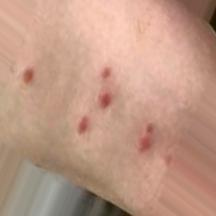Fleas: (138, 124, 152, 152), (75, 116, 92, 133), (96, 91, 111, 109), (22, 68, 33, 84), (99, 65, 111, 79)
